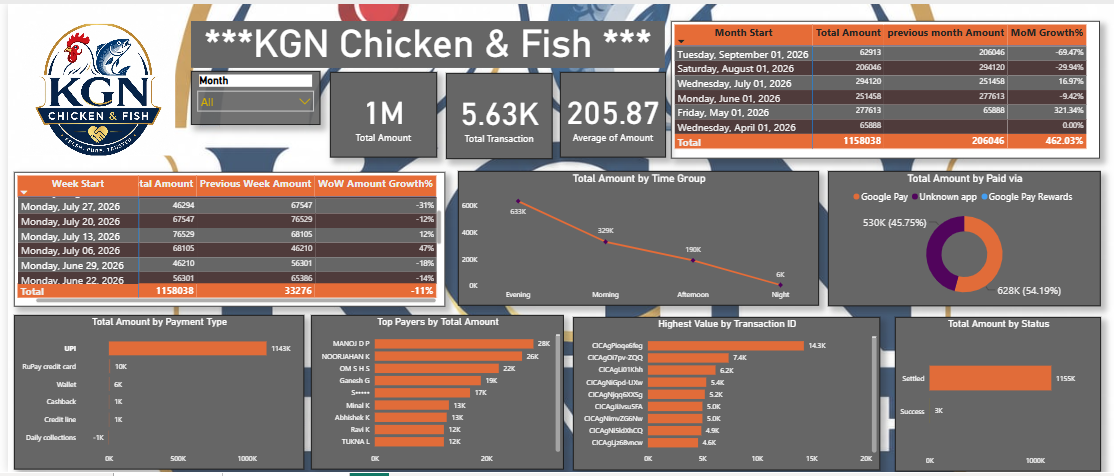

The dashboard page shown, as its layout file describes it:
{"tool":"powerbi","page":{"name":"Sales Report","canvas":[1900,800],"ordinal":0},"visuals":[{"type":"card","fields":{"Values":["GPay_Business_Transactions_1 jan 26 to 5 sep 26.Total Amount"]},"box":[550.2,116.6,182.9,145.7],"z":0,"group":"g1"},{"type":"pivotTable","fields":{"Values":["GPay_Business_Transactions_1 jan 26 to 5 sep 26.Total Amount","GPay_Business_Transactions_1 jan 26 to 5 sep 26.Previous Week Amount","GPay_Business_Transactions_1 jan 26 to 5 sep 26.WoW Amount Growth%"],"Rows":["GPay_Business_Transactions_1 jan 26 to 5 sep 26.Week Start"]},"box":[10.6,284.3,718.7,231.3],"z":0},{"type":"pivotTable","fields":{"Rows":["GPay_Business_Transactions_1 jan 26 to 5 sep 26.Month Start"],"Values":["GPay_Business_Transactions_1 jan 26 to 5 sep 26.Total Amount","GPay_Business_Transactions_1 jan 26 to 5 sep 26.previous month Amount","GPay_Business_Transactions_1 jan 26 to 5 sep 26.MoM Growth%"]},"box":[1133.9,28.6,733.4,234.9],"z":1000},{"type":"card","fields":{"Values":["CountNonNull(GPay_Business_Transactions_1 jan 26 to 5 sep 26.Transaction ID)"]},"box":[748.3,117.5,182,147.3],"z":1000,"group":"g1"},{"type":"card","fields":{"Values":["Avg(GPay_Business_Transactions_1 jan 26 to 5 sep 26.Amount)"]},"box":[943.7,116.6,181.2,145.7],"z":2000,"group":"g1"},{"type":"lineChart","fields":{"Category":["GPay_Business_Transactions_1 jan 26 to 5 sep 26.Time Group"],"Y":["GPay_Business_Transactions_1 jan 26 to 5 sep 26.Total Amount"]},"box":[743.4,284.3,642.8,231.3],"z":2000},{"type":"donutChart","fields":{"Category":["GPay_Business_Transactions_1 jan 26 to 5 sep 26.Paid via"],"Y":["GPay_Business_Transactions_1 jan 26 to 5 sep 26.Total Amount"]},"box":[1402,286.1,466.2,231.3],"z":3000},{"type":"slicer","fields":{"Values":["GPay_Business_Transactions_1 jan 26 to 5 sep 26.Month"]},"box":[312.8,114.9,220.9,91.9],"z":4000},{"type":"group","id":"g1","title":"Group 1","box":[550.2,116.6,574.7,148.1],"z":5000},{"type":"clusteredBarChart","fields":{"Y":["GPay_Business_Transactions_1 jan 26 to 5 sep 26.Total Amount"],"Category":["GPay_Business_Transactions_1 jan 26 to 5 sep 26.Status"]},"box":[1515.4,533.9,352.4,263.8],"z":5000,"group":"g2"},{"type":"group","id":"g2","title":"Group 2","box":[10.2,531.2,1857.1,267.6],"z":6000},{"type":"clusteredBarChart","title":"Highest Value by Transaction ID","fields":{"Y":["GPay_Business_Transactions_1 jan 26 to 5 sep 26.Total Amount"],"Category":["GPay_Business_Transactions_1 jan 26 to 5 sep 26.Transaction ID"]},"box":[966.4,533.9,524.9,261.8],"z":6000,"group":"g2"},{"type":"image","box":[18.4,28.6,272,235.2],"z":7000},{"type":"clusteredBarChart","title":"Top Payers by Total Amount","fields":{"Y":["GPay_Business_Transactions_1 jan 26 to 5 sep 26.Total Amount"],"Category":["GPay_Business_Transactions_1 jan 26 to 5 sep 26.Payer/Receiver"]},"box":[517.5,531.9,432.2,263.8],"z":7000,"group":"g2"},{"type":"textbox","title":" ***KGN Chicken & Fish ***","box":[312.9,28.6,809.9,79.8],"z":8000},{"type":"clusteredBarChart","title":"Total Amount by Payment Type","fields":{"Category":["GPay_Business_Transactions_1 jan 26 to 5 sep 26.Type"],"Y":["GPay_Business_Transactions_1 jan 26 to 5 sep 26.Total Amount"]},"box":[10.2,531.2,495.6,264.2],"z":9000,"group":"g2"}]}

Visuals, with their boxes in screenshot pixels (x1, y1, x2, y2), scaled from the page's 1900x800 canvas onto the 1114x476 screenshot:
card - GPay_Business_Transactions_1 jan 26 to 5 sep 26.Total Amount: 323,69,430,156
pivotTable - GPay_Business_Transactions_1 jan 26 to 5 sep 26.Total Amount x GPay_Business_Transactions_1 jan 26 to 5 sep 26.Previous Week Amount: 6,169,428,307
pivotTable - GPay_Business_Transactions_1 jan 26 to 5 sep 26.Month Start x GPay_Business_Transactions_1 jan 26 to 5 sep 26.Total Amount: 665,17,1095,157
card - CountNonNull(GPay_Business_Transactions_1 jan 26 to 5 sep 26.Transaction ID): 439,70,545,158
card - Avg(GPay_Business_Transactions_1 jan 26 to 5 sep 26.Amount): 553,69,660,156
lineChart - GPay_Business_Transactions_1 jan 26 to 5 sep 26.Time Group x GPay_Business_Transactions_1 jan 26 to 5 sep 26.Total Amount: 436,169,813,307
donutChart - GPay_Business_Transactions_1 jan 26 to 5 sep 26.Paid via x GPay_Business_Transactions_1 jan 26 to 5 sep 26.Total Amount: 822,170,1095,308
slicer - GPay_Business_Transactions_1 jan 26 to 5 sep 26.Month: 183,68,313,123
"Group 1" group: 323,69,660,157
clusteredBarChart - GPay_Business_Transactions_1 jan 26 to 5 sep 26.Total Amount x GPay_Business_Transactions_1 jan 26 to 5 sep 26.Status: 889,318,1095,475
"Group 2" group: 6,316,1095,475
"Highest Value by Transaction ID" clusteredBarChart: 567,318,874,473
image: 11,17,170,157
"Top Payers by Total Amount" clusteredBarChart: 303,316,557,473
" ***KGN Chicken & Fish ***" textbox: 183,17,658,64
"Total Amount by Payment Type" clusteredBarChart: 6,316,297,473
